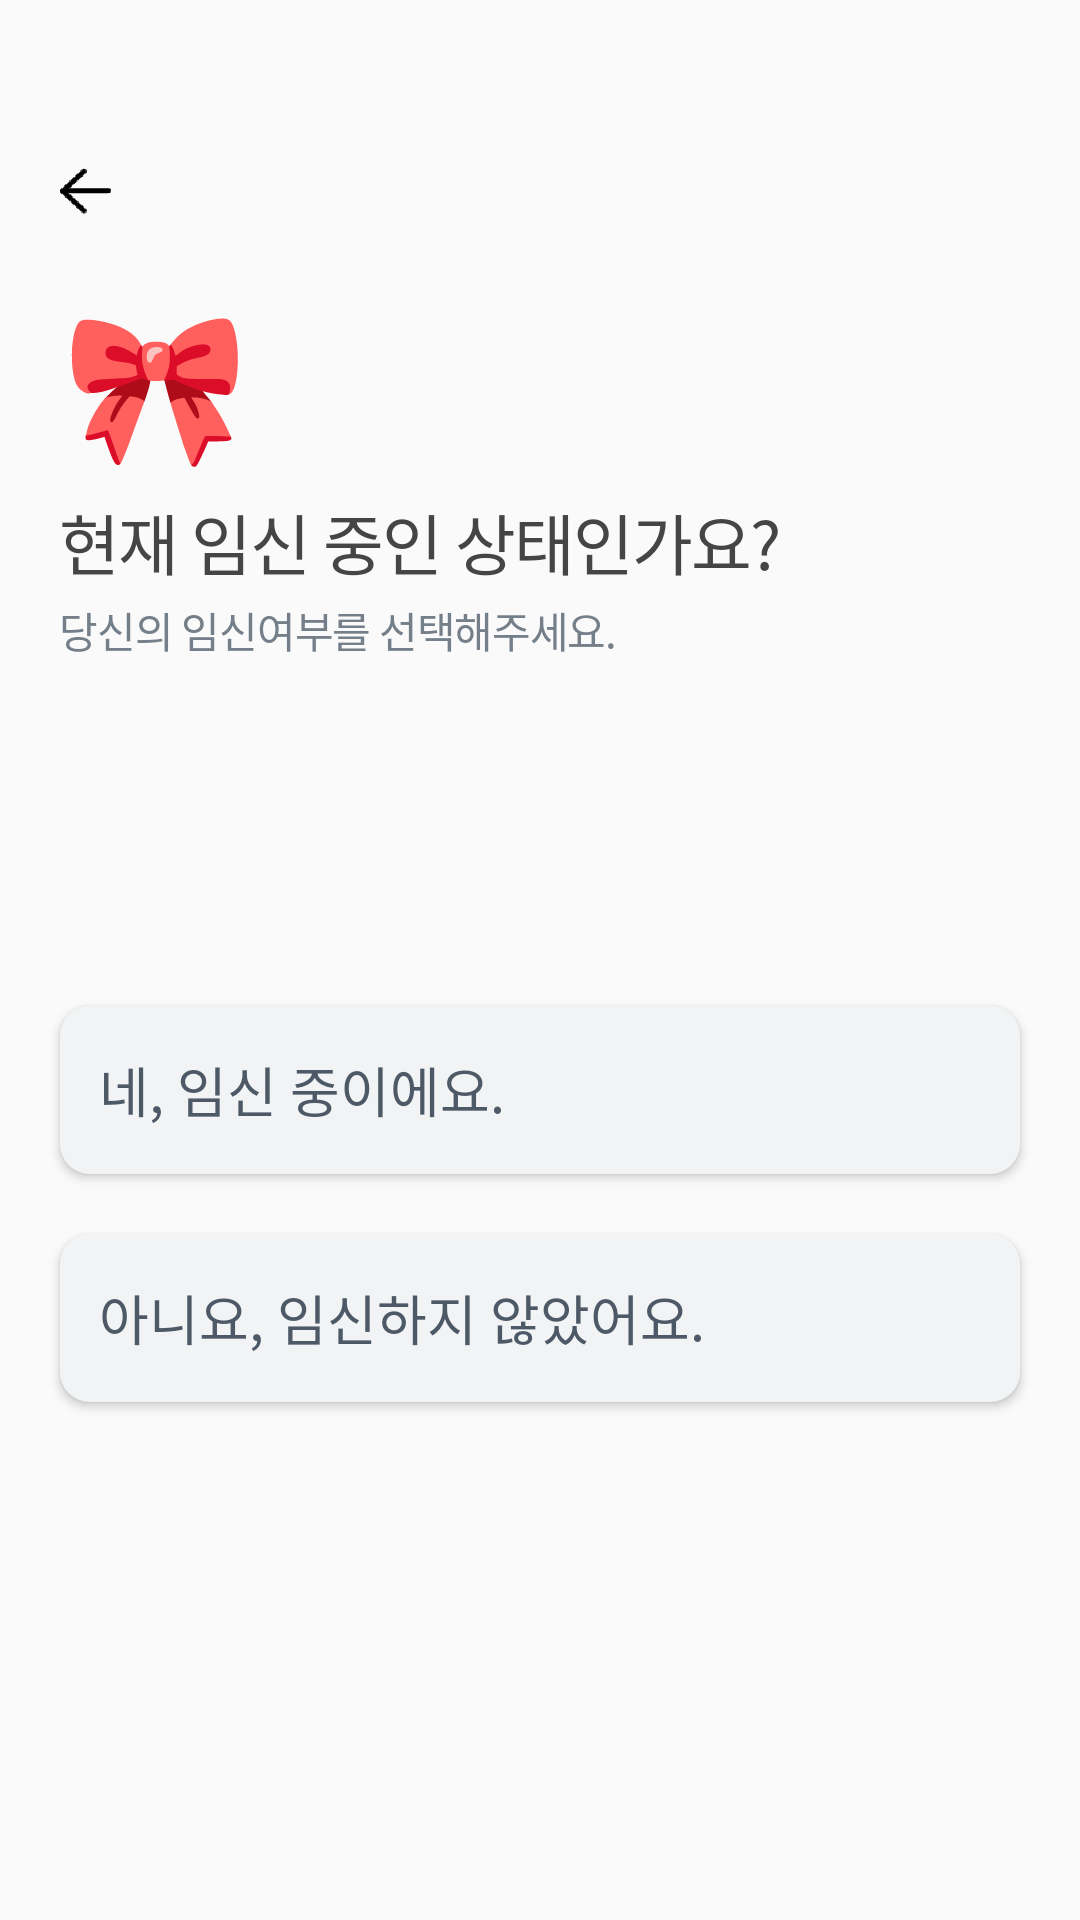

Icon bounding boxes for this 1080px×1920px phone screenshot, format [x1,y1,x2,y2]:
before: [60,168,111,214]
